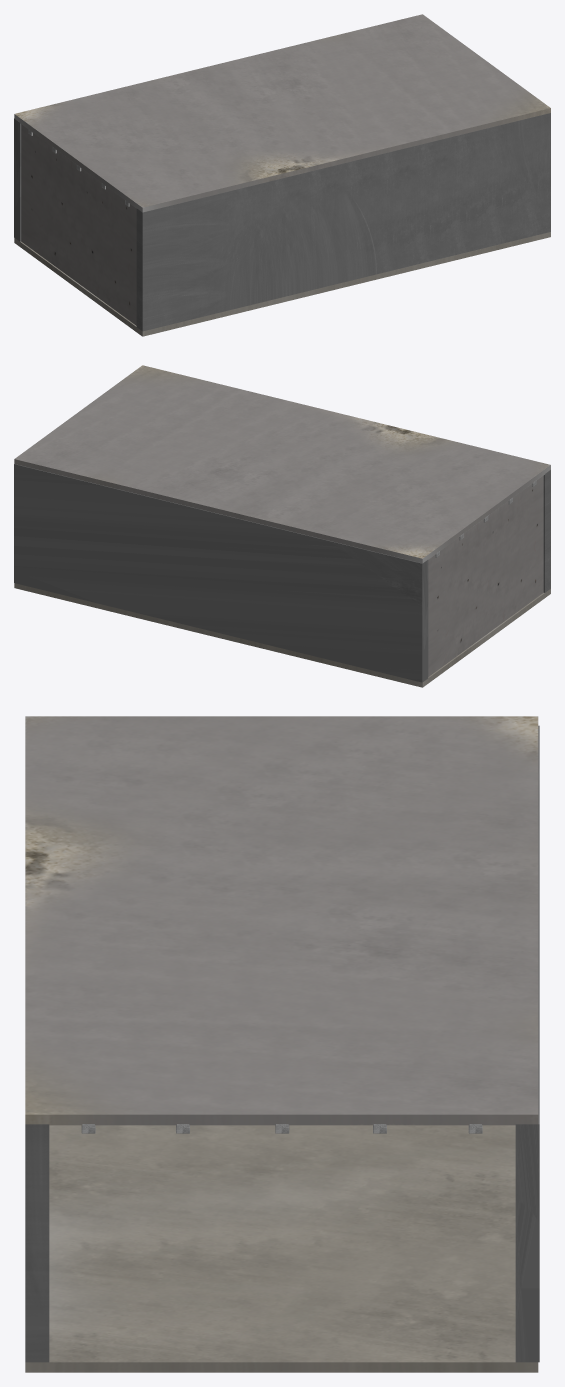
File: LevelScene.fbx
3 renders of one model, top to bottom at view 1: azimuth 30°, elevation 25°; view 2: azimuth 150°, elevation 25°; view 3: azimuth 270°, elevation 25°, orthographic. The views are drawn at different scales.
Parts seen in each view (by area): view 1: polySurface28; view 2: polySurface28; view 3: polySurface28.
Part boxes in pixels (x1,y1,x2,y2): polySurface28: (14,14,550,336); polySurface28: (14,365,550,687); polySurface28: (25,716,539,1372).
Size of the model in its own units: 39.02 by 11.78 by 21.28.
Materials: 5 (5 with a texture image).
